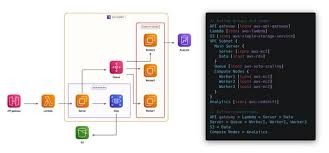api gateway: (7, 95, 21, 107)
ec2: (144, 64, 157, 77), (144, 95, 157, 108), (76, 95, 89, 107), (145, 34, 157, 46)
lambda: (42, 95, 55, 107)
rds: (110, 94, 123, 107)
redshift: (177, 34, 192, 46)
s3: (75, 126, 90, 139)
